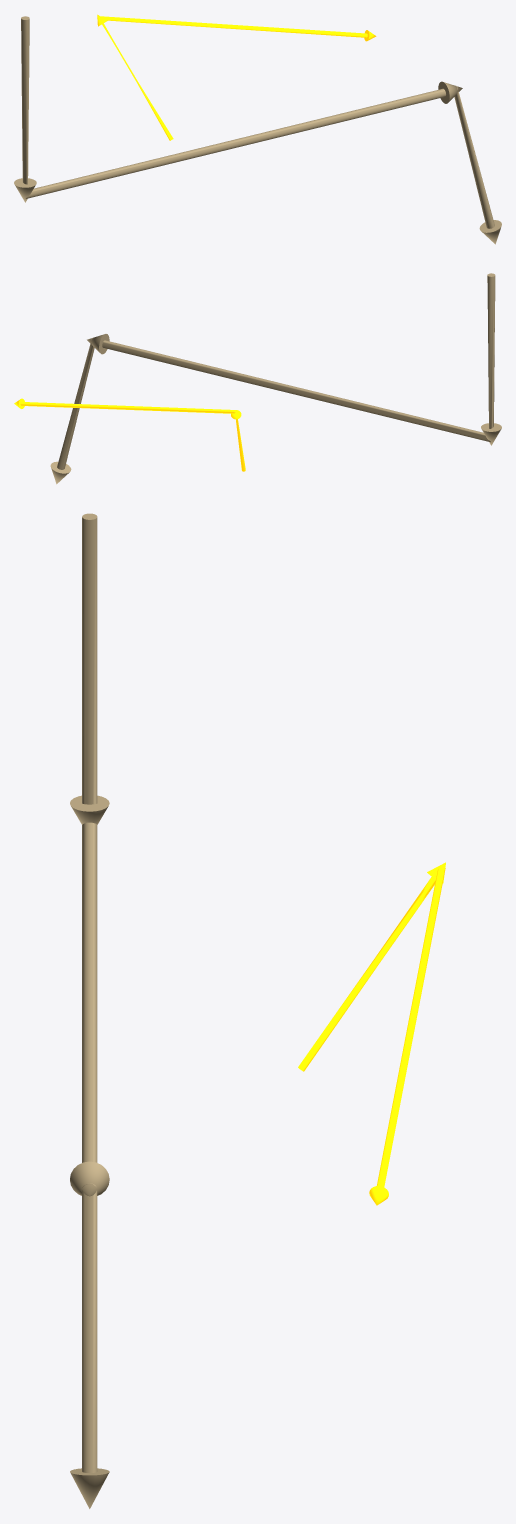
The model's file is weigh_feeder_flow.glb.
3 renders of one model, top to bottom at view 1: azimuth 30°, elevation 25°; view 2: azimuth 150°, elevation 25°; view 3: azimuth 270°, elevation 25°, orthographic. The views are drawn at different scales.
Visible parts, largest first — view 1: material.001, signal; view 2: material.001, signal; view 3: material.001, signal.
Part boxes in pixels (bbox=[...]): material.001: bbox=[14, 16, 501, 244]; signal: bbox=[97, 14, 376, 140]; material.001: bbox=[50, 273, 501, 484]; signal: bbox=[14, 398, 245, 471]; material.001: bbox=[70, 513, 109, 1508]; signal: bbox=[298, 862, 445, 1205].
Size of the model in its own units: 1.52 by 1.02 by 0.5881.
